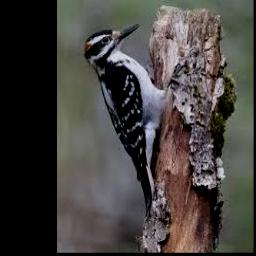Woodpecker: (85, 23, 167, 214)
